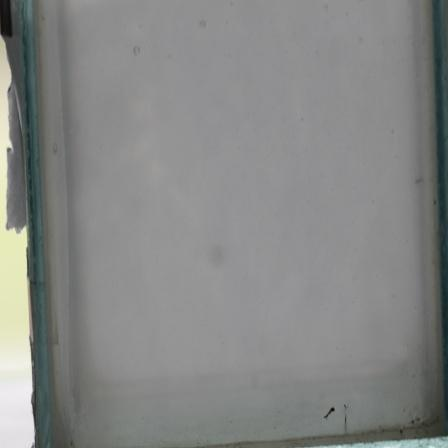Jentik-Nyamuk: (320, 402, 339, 421)
